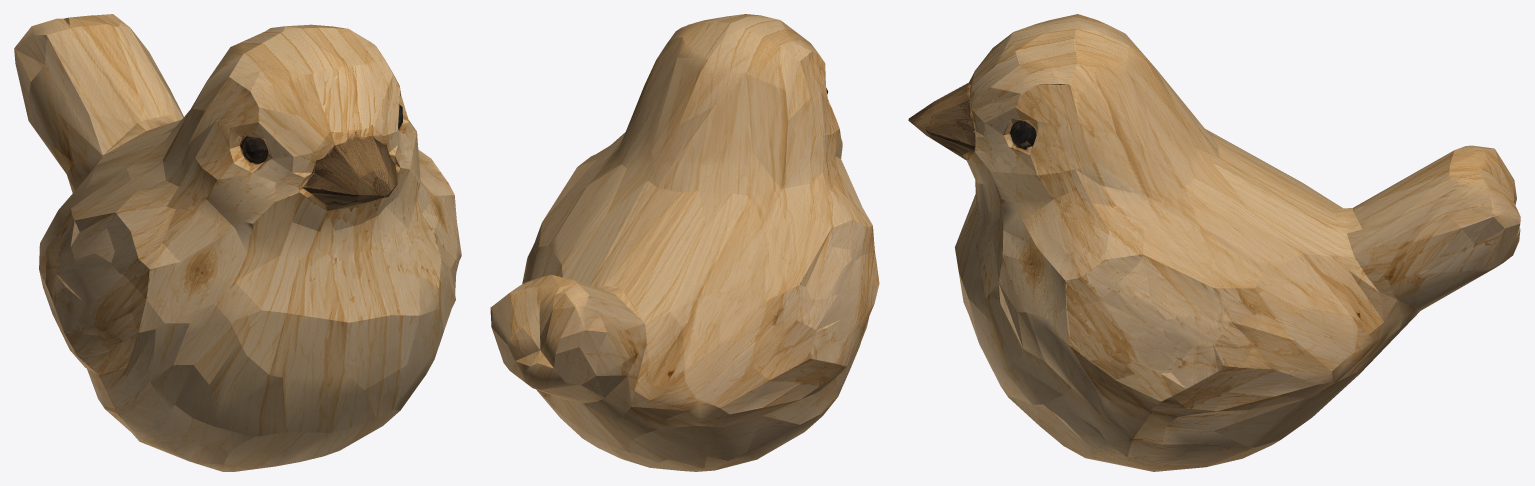
File: namu_sae.glb
The picture shows the model from 3 angles, left to right: view 1: azimuth 30°, elevation 25°; view 2: azimuth 150°, elevation 25°; view 3: azimuth 270°, elevation 25°; orthographic projection. The views are drawn at different scales.
Size of the model in its own units: 1.16 by 1.44 by 1.9.
Materials: 1 (1 with a texture image).
